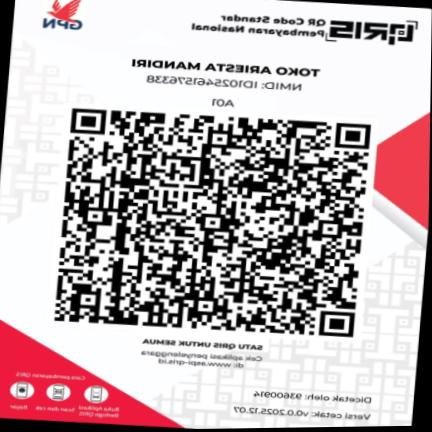Barcode_Asli: (44, 100, 381, 344)
